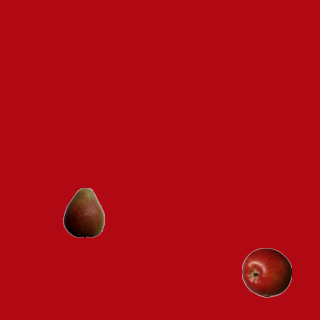Apple Braeburn: (241, 247, 291, 297)
Pear Forelle: (58, 187, 108, 237)
